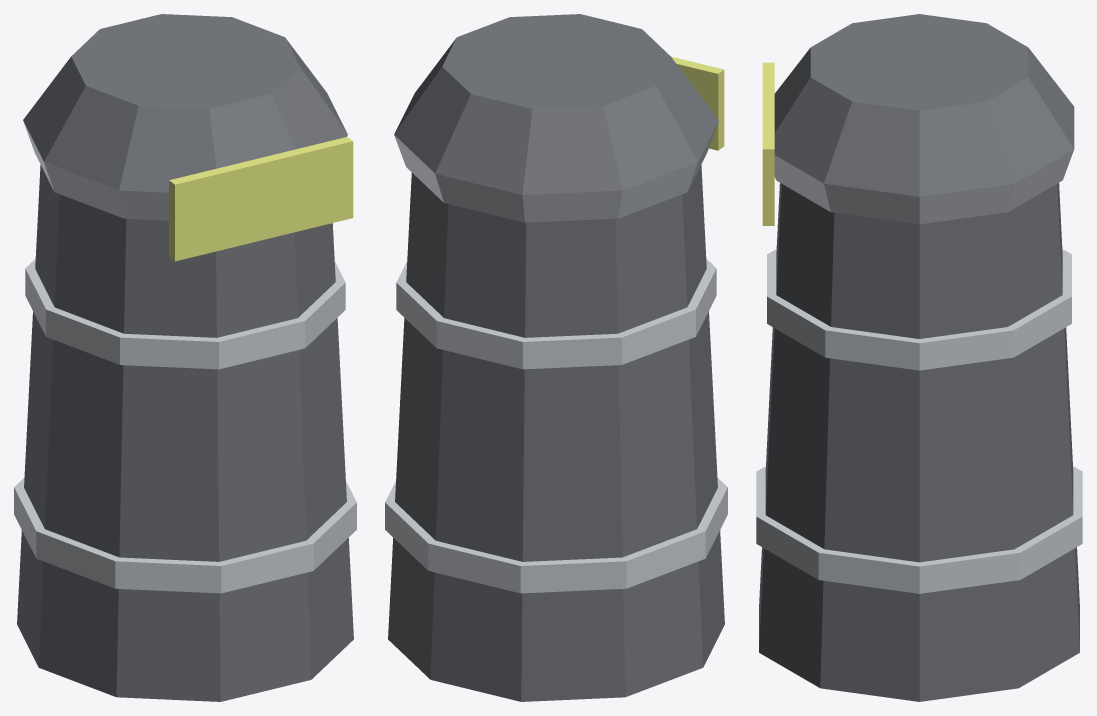
Rendered from tennis-club-and-courts-court-litter-bin-d3afaee8__33644.glb.
3 renders of one model, left to right at view 1: azimuth 30°, elevation 25°; view 2: azimuth 150°, elevation 25°; view 3: azimuth 270°, elevation 25°, orthographic.
Visible parts, largest first — view 1: court-litter-bin; view 2: court-litter-bin; view 3: court-litter-bin.
Boxes of the visible parts, x1,y1,x2,y2 form: court-litter-bin: (14, 14, 356, 701); court-litter-bin: (385, 14, 727, 701); court-litter-bin: (756, 14, 1082, 701).
Size of the model in its own units: 0.5694 by 1.04 by 0.5416.
